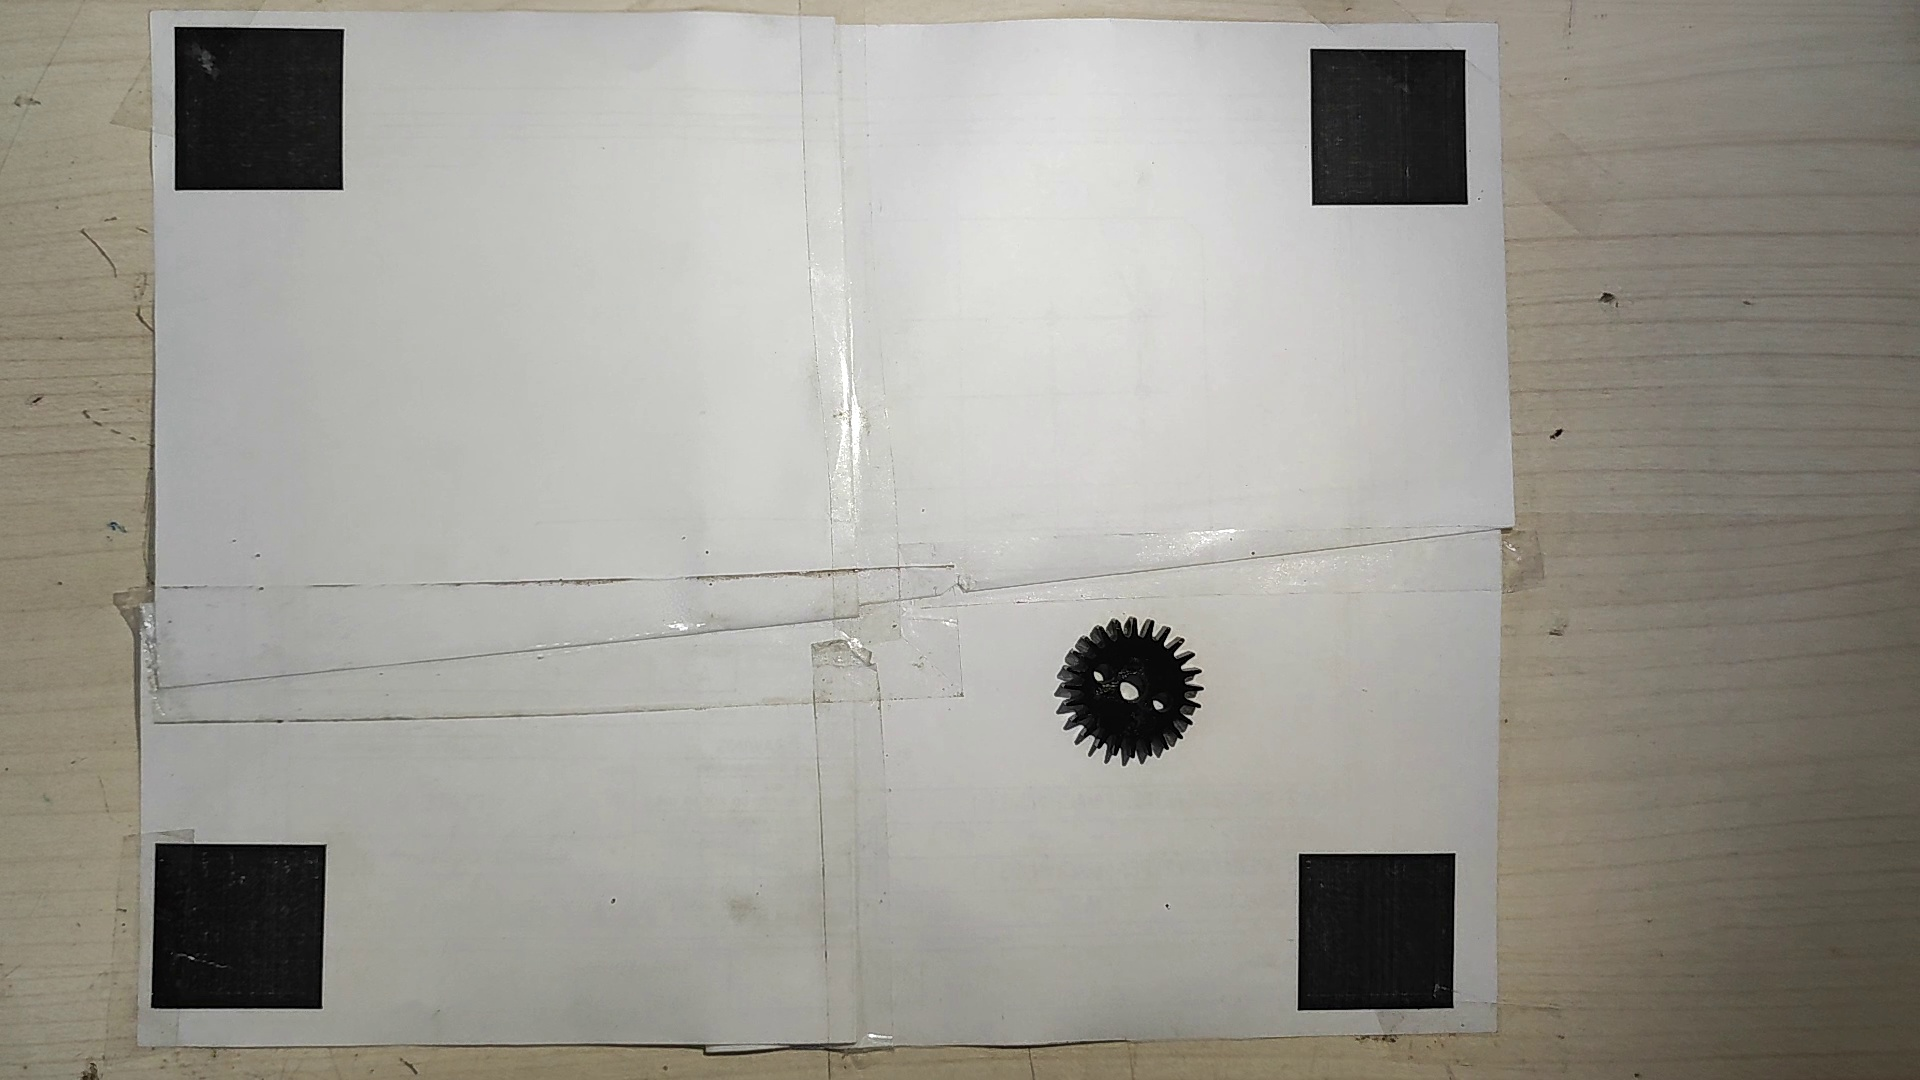Gear: (1055, 612, 1205, 764)
